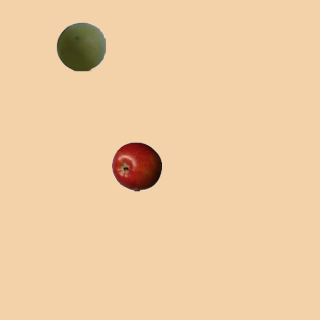Apple Braeburn: (111, 141, 161, 191)
Grape White 4: (55, 21, 105, 71)
